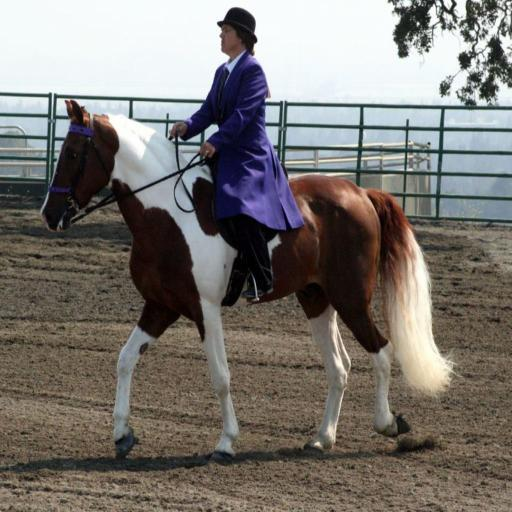horse: (35, 100, 461, 468)
